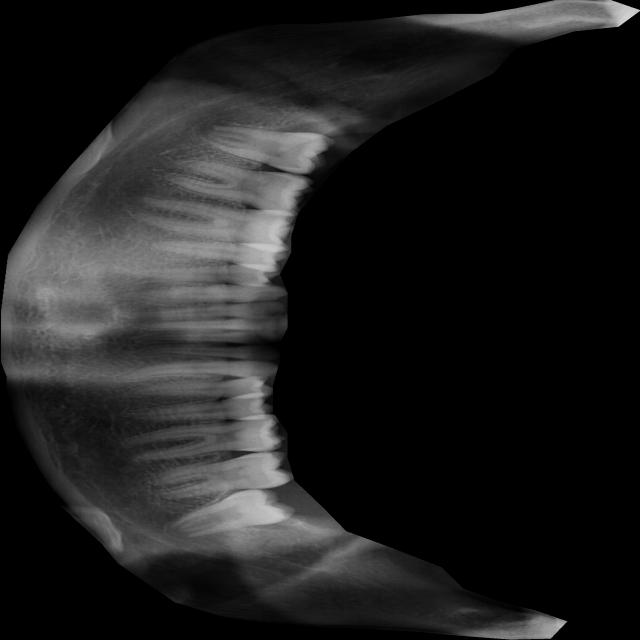mandibula: (0, 0, 640, 640)
